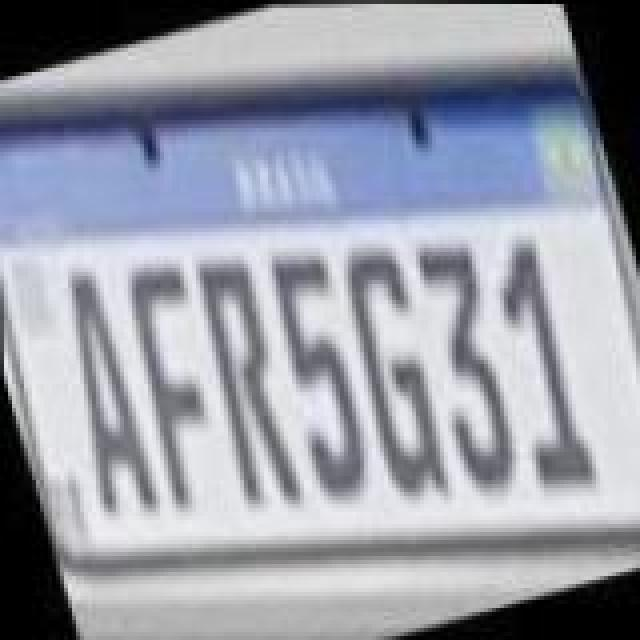1: (472, 226, 604, 502)
3: (396, 222, 536, 498)
5: (250, 234, 386, 506)
A: (34, 264, 162, 536)
F: (108, 250, 248, 514)
G: (324, 232, 464, 512)
R: (178, 242, 314, 518)
